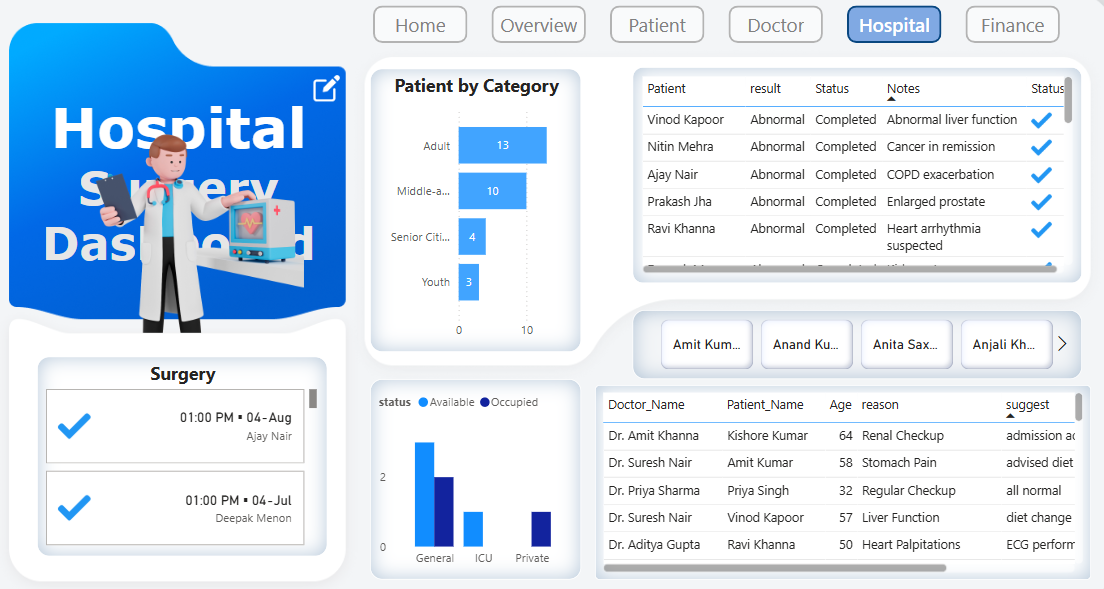

The page's visual inventory and layout, read from the dashboard file:
{"tool":"powerbi","page":{"name":"Hospital","canvas":[1280,720],"ordinal":4},"visuals":[{"type":"textbox","box":[76.3,136.8,345.2,200.4],"z":0},{"type":"image","box":[381.4,117,48.1,38.5],"z":1000},{"type":"advancedSlicerVisual","fields":{"Values":["Patient_Data.Surgery_Appointment_Time_Date"]},"box":[98.1,421.7,307.9,211.8],"z":2000},{"type":"advancedSlicerVisual","title":"Rating","fields":{"Values":["Staff.name"]},"box":[729.5,372.2,476.9,73.1],"z":3000},{"type":"tableEx","fields":{"Values":["Patient_Data.Doctor_Name","Patient_Data.Patient_Name","Max(Patient_Data.Patient_Age)","Appointment.reason","Appointment.suggest","Appointment.Status_Icon"]},"box":[690.8,452,525.7,206.7],"z":4000},{"type":"clusteredBarChart","fields":{"Category":["Patient_Data.Age_Category"],"Y":["_Measures.Patient_No"]},"box":[452,116.3,224.3,300.8],"z":5000},{"type":"tableEx","fields":{"Values":["Patient_Data.Patient_Name","Patient_Tests.result","Patient_Data.Surgery_Status","Patient_Data.Surgery_Notes","Patient_Tests.Test_Status_Icon_Col"]},"box":[729.5,114.7,476.9,229.3],"z":6000},{"type":"clusteredColumnChart","fields":{"Category":["Bed_Data.room_type"],"Y":["Max(Bed_Data.bed)"],"Series":["Bed_Data.status"]},"box":[452,445.3,224.3,212.7],"z":7000},{"type":"image","box":[137.9,159.5,254.2,242.6],"z":8000},{"type":"actionButton","title":"Home","box":[455,50,100.2,39.8],"z":9000},{"type":"actionButton","box":[831.9,50,100.2,39.8],"z":10000},{"type":"actionButton","box":[957.6,50,100.2,39.8],"z":11000},{"type":"actionButton","box":[1083.2,50,100.2,39.8],"z":12000},{"type":"actionButton","box":[706.3,50,100.2,39.8],"z":13000},{"type":"actionButton","box":[580.6,50,100.2,39.8],"z":14000}]}

Visuals, with their boxes on the page's 1280x720 design canvas (x1, y1, x2, y2). These are canvas units, not pixel positions in the 1104x589 screenshot, which may show the page scaled, cropped or inside an application window:
textbox: <bbox>76, 137, 422, 337</bbox>
image: <bbox>381, 117, 430, 156</bbox>
advancedSlicerVisual - Patient_Data.Surgery_Appointment_Time_Date: <bbox>98, 422, 406, 634</bbox>
"Rating" advancedSlicerVisual: <bbox>730, 372, 1206, 445</bbox>
tableEx - Patient_Data.Doctor_Name x Patient_Data.Patient_Name: <bbox>691, 452, 1216, 659</bbox>
clusteredBarChart - Patient_Data.Age_Category x _Measures.Patient_No: <bbox>452, 116, 676, 417</bbox>
tableEx - Patient_Data.Patient_Name x Patient_Tests.result: <bbox>730, 115, 1206, 344</bbox>
clusteredColumnChart - Bed_Data.room_type x Max(Bed_Data.bed): <bbox>452, 445, 676, 658</bbox>
image: <bbox>138, 160, 392, 402</bbox>
"Home" actionButton: <bbox>455, 50, 555, 90</bbox>
actionButton: <bbox>832, 50, 932, 90</bbox>
actionButton: <bbox>958, 50, 1058, 90</bbox>
actionButton: <bbox>1083, 50, 1183, 90</bbox>
actionButton: <bbox>706, 50, 806, 90</bbox>
actionButton: <bbox>581, 50, 681, 90</bbox>
